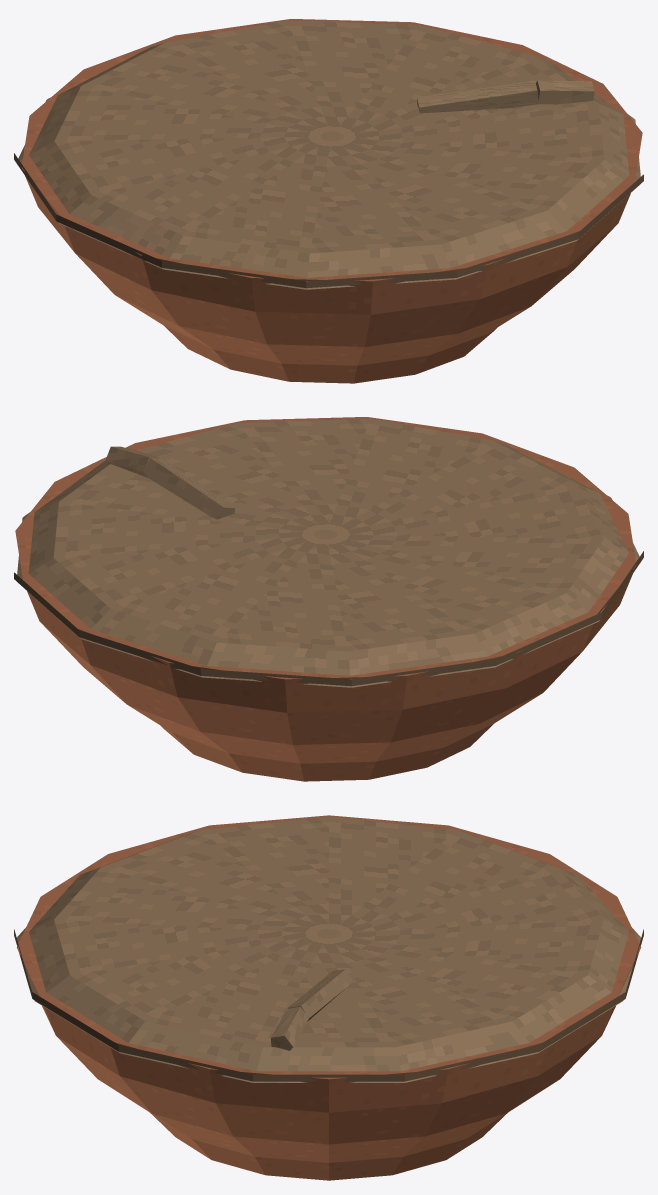
The model's file is bowl_clay.glb.
The picture shows the model from 3 angles, top to bottom: view 1: azimuth 30°, elevation 25°; view 2: azimuth 150°, elevation 25°; view 3: azimuth 270°, elevation 25°; orthographic projection.
Visible parts, largest first — view 1: block_tied waterproof hide cover, block_low clay bowl, block_hide binding cord, block_folded lid tab 0, block_folded lid tab 1; view 2: block_tied waterproof hide cover, block_low clay bowl, block_hide binding cord, block_folded lid tab 0, block_folded lid tab 1; view 3: block_tied waterproof hide cover, block_low clay bowl, block_hide binding cord, block_folded lid tab 0, block_folded lid tab 1.
Part boxes in pixels (x1,y1,x2,y2): block_tied waterproof hide cover: [18, 20, 640, 289]; block_low clay bowl: [21, 19, 642, 383]; block_hide binding cord: [14, 153, 643, 288]; block_folded lid tab 0: [417, 80, 538, 113]; block_folded lid tab 1: [536, 80, 594, 104]; block_tied waterproof hide cover: [17, 418, 639, 687]; block_low clay bowl: [15, 417, 636, 781]; block_hide binding cord: [14, 551, 643, 686]; block_folded lid tab 0: [143, 458, 234, 519]; block_folded lid tab 1: [105, 446, 159, 477]; block_tied waterproof hide cover: [17, 816, 640, 1082]; block_low clay bowl: [16, 815, 641, 1180]; block_hide binding cord: [14, 929, 643, 1081]; block_folded lid tab 0: [287, 969, 352, 1021]; block_folded lid tab 1: [271, 1006, 308, 1050].
Size of the model in its own units: 0.1169 by 0.0403 by 0.117.
1 material, 1 textured.
